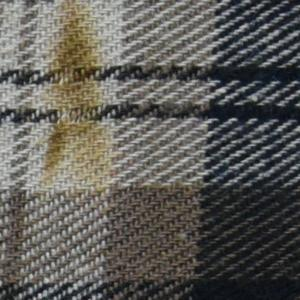Oil Stain: (39, 1, 118, 213)
